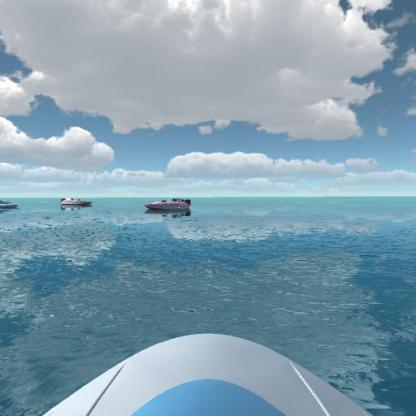usv1: (0, 194, 23, 212)
usv3: (141, 194, 195, 215), (59, 193, 97, 214)
